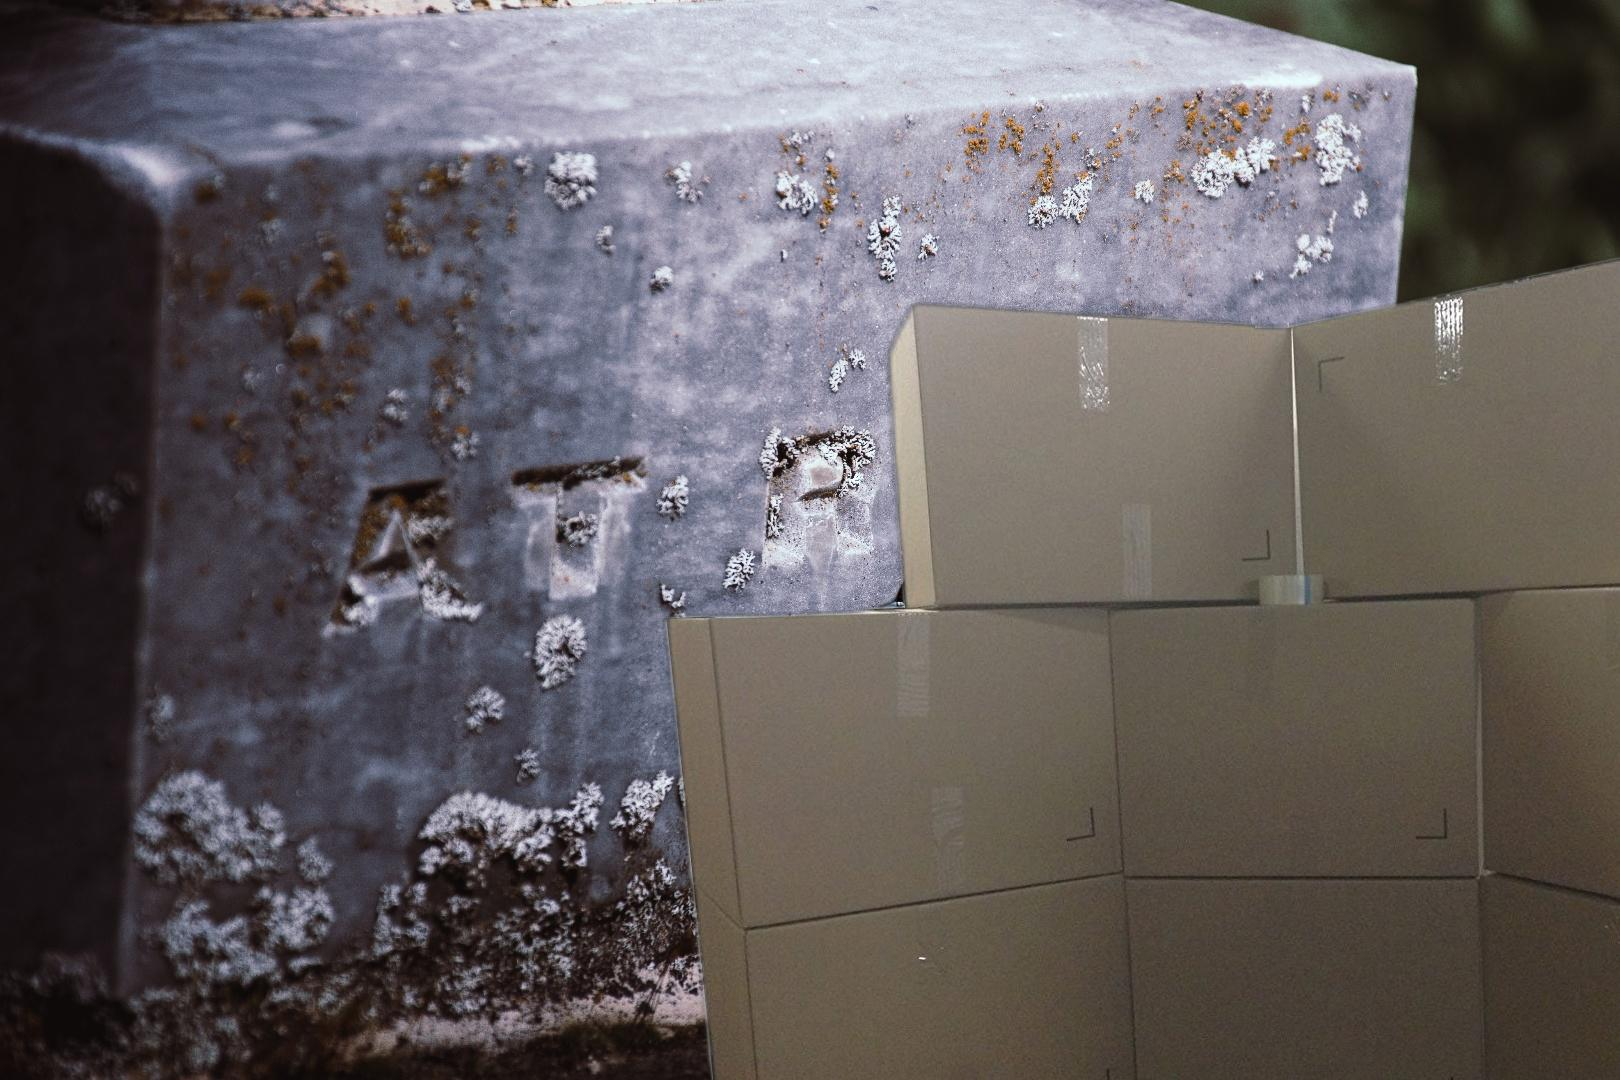glass: (830, 542, 943, 739)
trashbox-cardboard: (651, 243, 1620, 1080)
